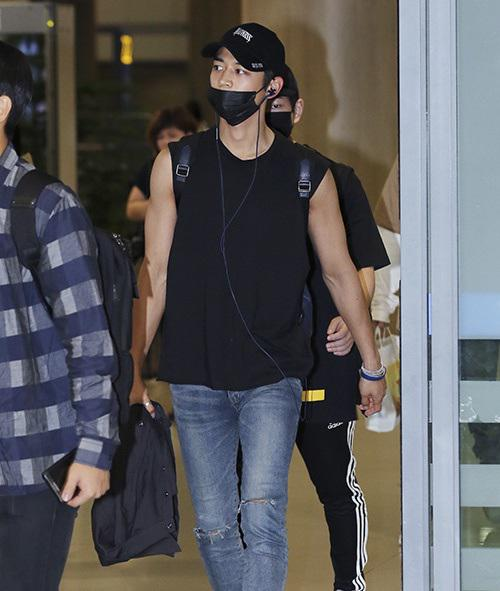OK: (253, 90, 297, 144)
WRONG: (209, 53, 274, 118)
